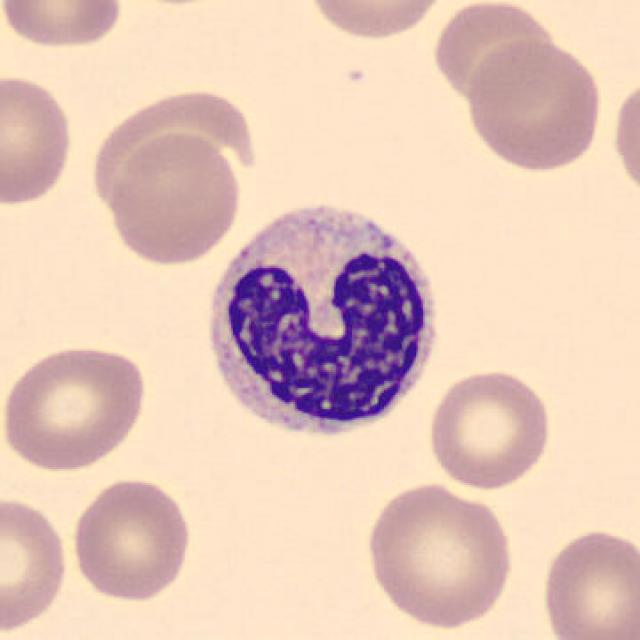Neutrophil: (194, 189, 452, 453)
RBC: (361, 478, 517, 631), (0, 340, 151, 474), (103, 127, 245, 268), (94, 88, 261, 207), (462, 37, 606, 175), (423, 365, 557, 492), (68, 474, 196, 605), (427, 0, 558, 106), (535, 523, 638, 640), (0, 70, 76, 208), (0, 492, 71, 635), (300, 0, 455, 42), (0, 0, 126, 51), (608, 70, 640, 206)
